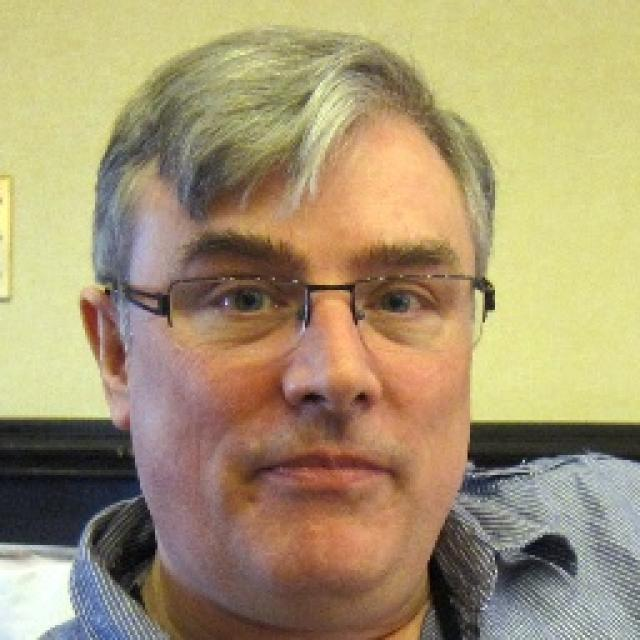earlobe: (105, 400, 136, 434)
eye: (213, 288, 281, 320), (376, 287, 426, 319)
nose: (290, 401, 380, 438)
wholeear: (80, 286, 131, 434)
